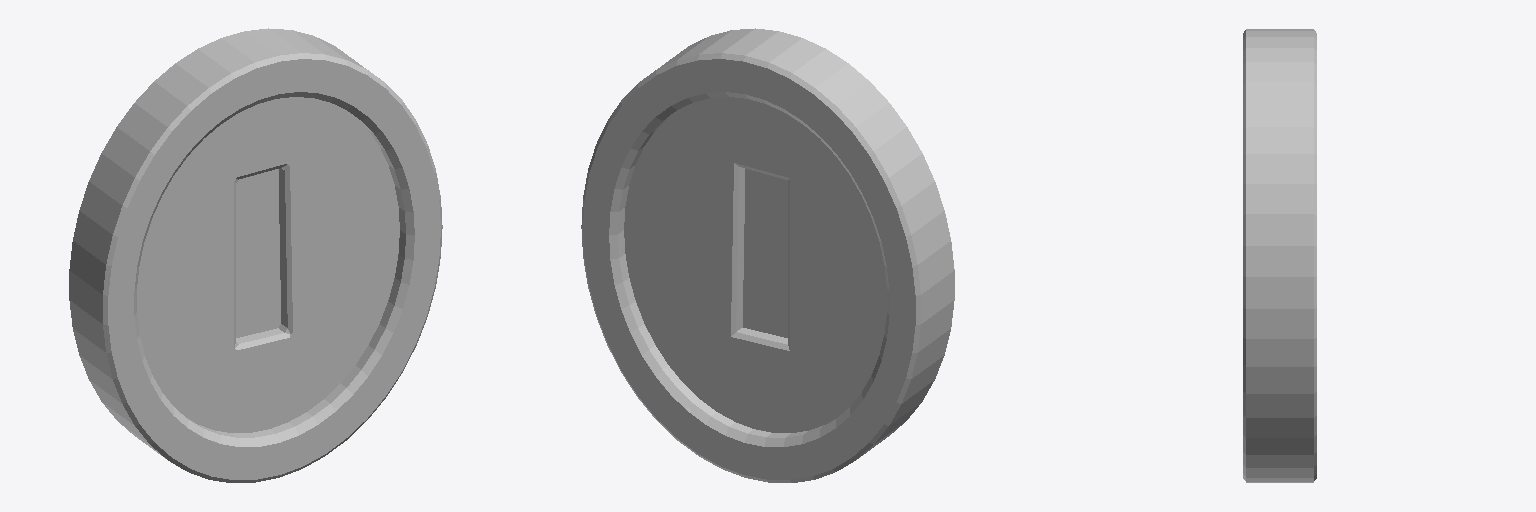
The model's file is coin.obj.
3 renders of one model, left to right at view 1: azimuth 30°, elevation 25°; view 2: azimuth 150°, elevation 25°; view 3: azimuth 270°, elevation 25°, orthographic.
Parts seen in each view (by area): view 1: coin; view 2: coin; view 3: coin.
Boxes of the visible parts, x1,y1,x2,y2 form: coin: [69, 28, 442, 482]; coin: [581, 28, 954, 482]; coin: [1243, 29, 1316, 482].
Bounding box in the file's own units: 0.2277 × 0.2705 × 0.0434.